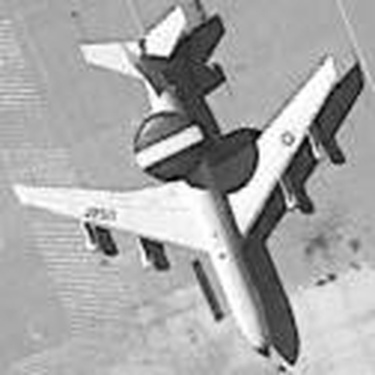airplane: (7, 3, 353, 360)
